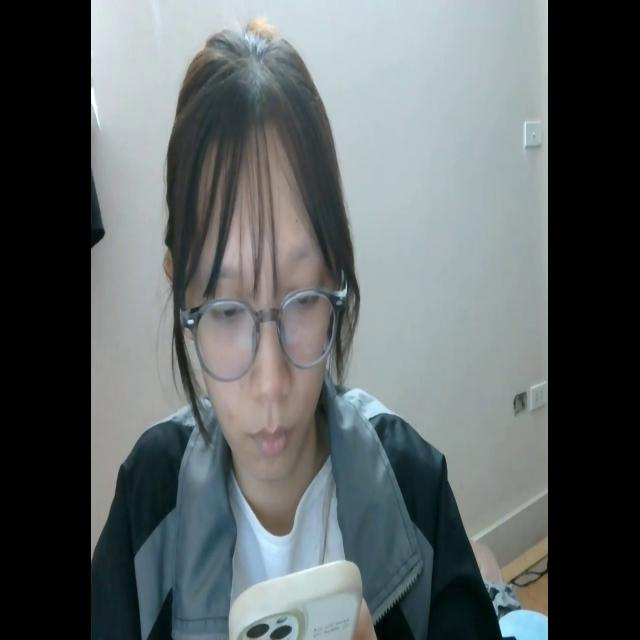phone: (228, 557, 364, 640)
student: (91, 15, 503, 640)
